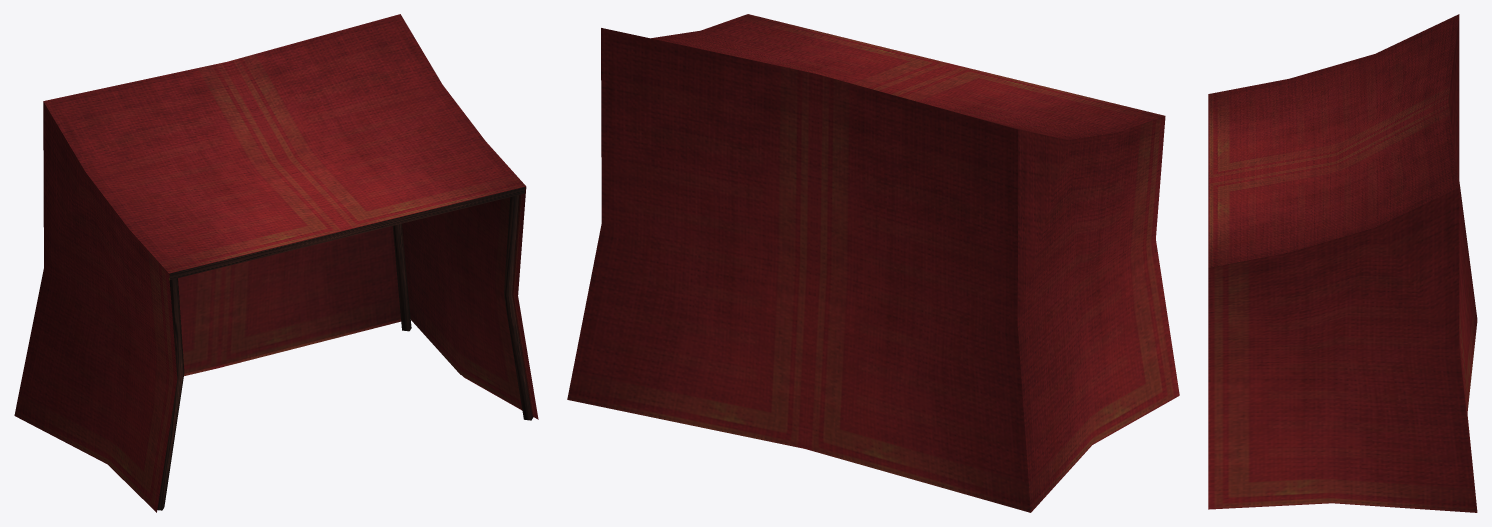
File: Tent_01.fbx
3 views of the same model, side by side, from view 1: azimuth 30°, elevation 25°; view 2: azimuth 150°, elevation 25°; view 3: azimuth 270°, elevation 25° (orthographic). The views are drawn at different scales.
Visible parts, largest first — view 1: Tent_01; view 2: Tent_01; view 3: Tent_01.
Boxes of the visible parts, x1=… form: Tent_01: x1=14, y1=14, x2=538, y2=512; Tent_01: x1=567, y1=14, x2=1179, y2=512; Tent_01: x1=1208, y1=14, x2=1477, y2=512.
Size of the model in its own units: 0.4004 by 0.3054 by 0.2358.
